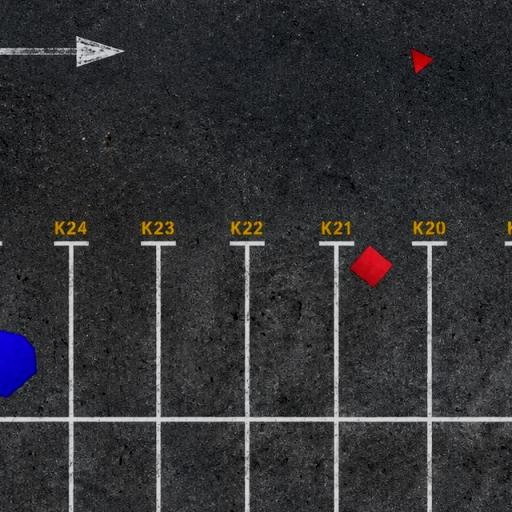RED_SQUARE: (349, 245, 394, 289)
